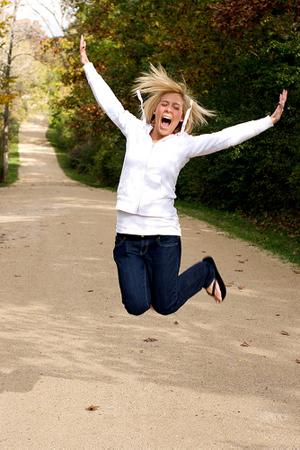person: (80, 30, 287, 318)
